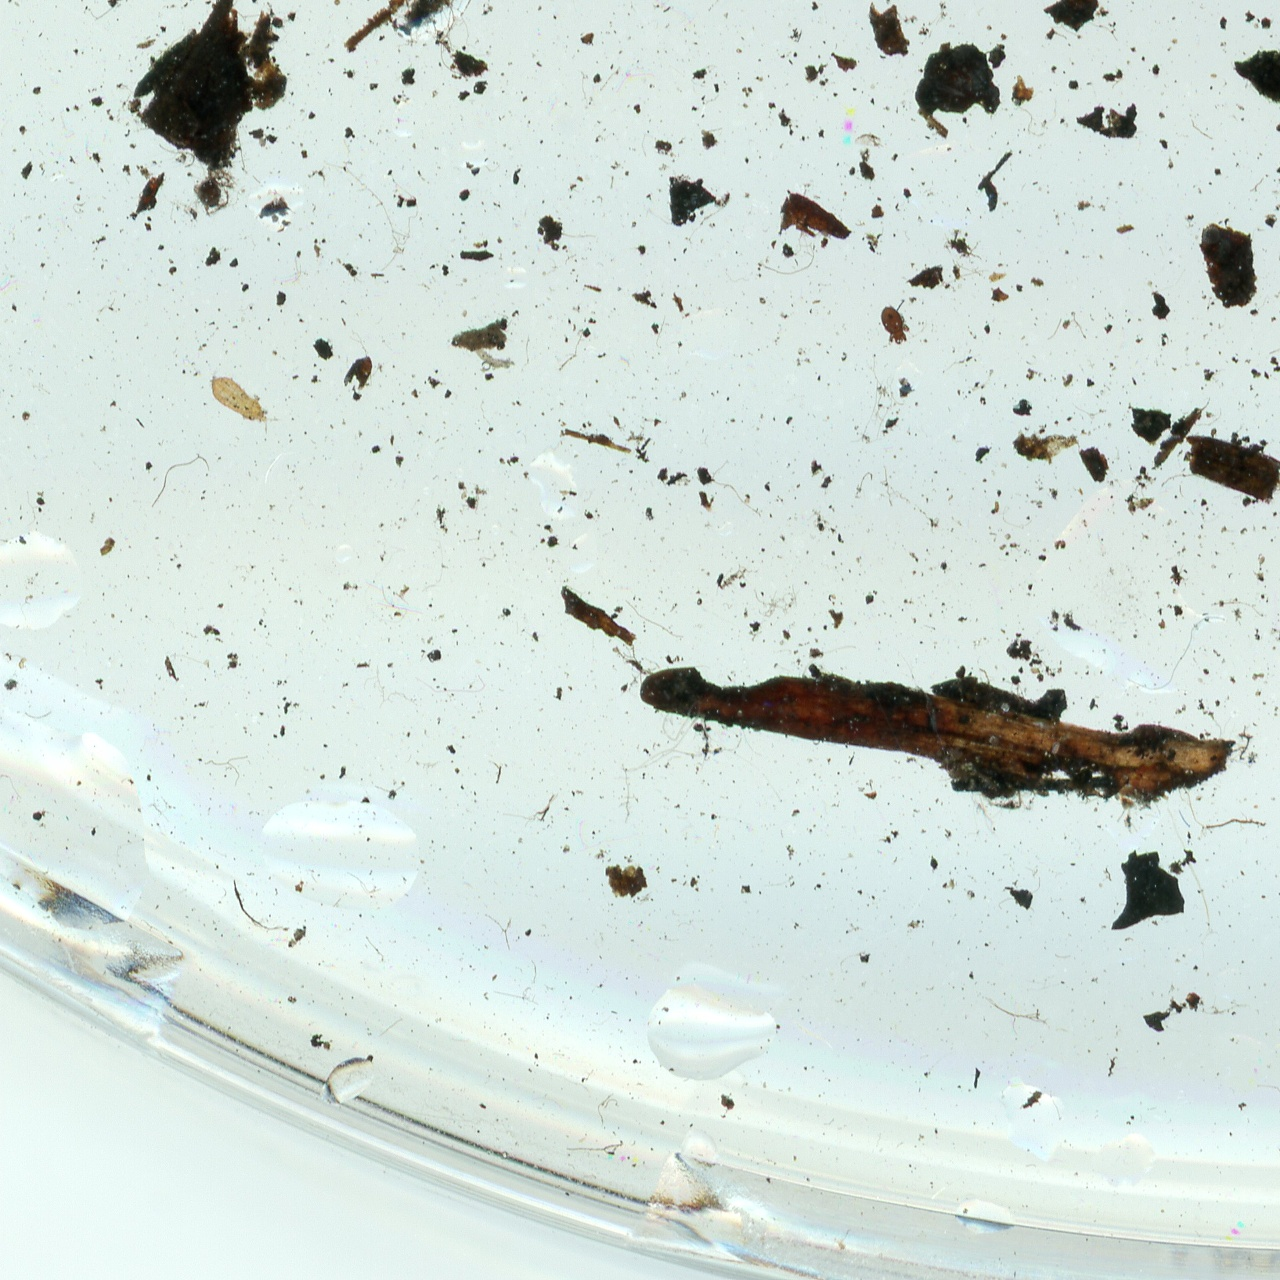arthropod: (197, 363, 288, 445)
